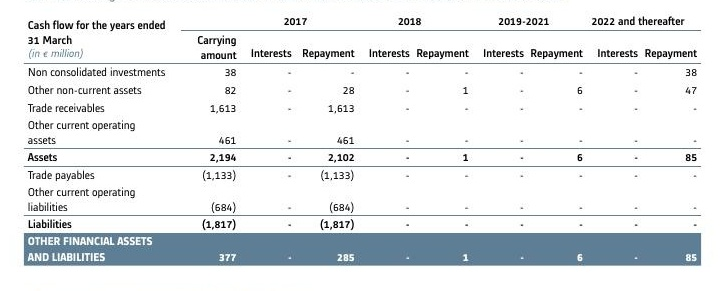table: (0, 0, 727, 291)
